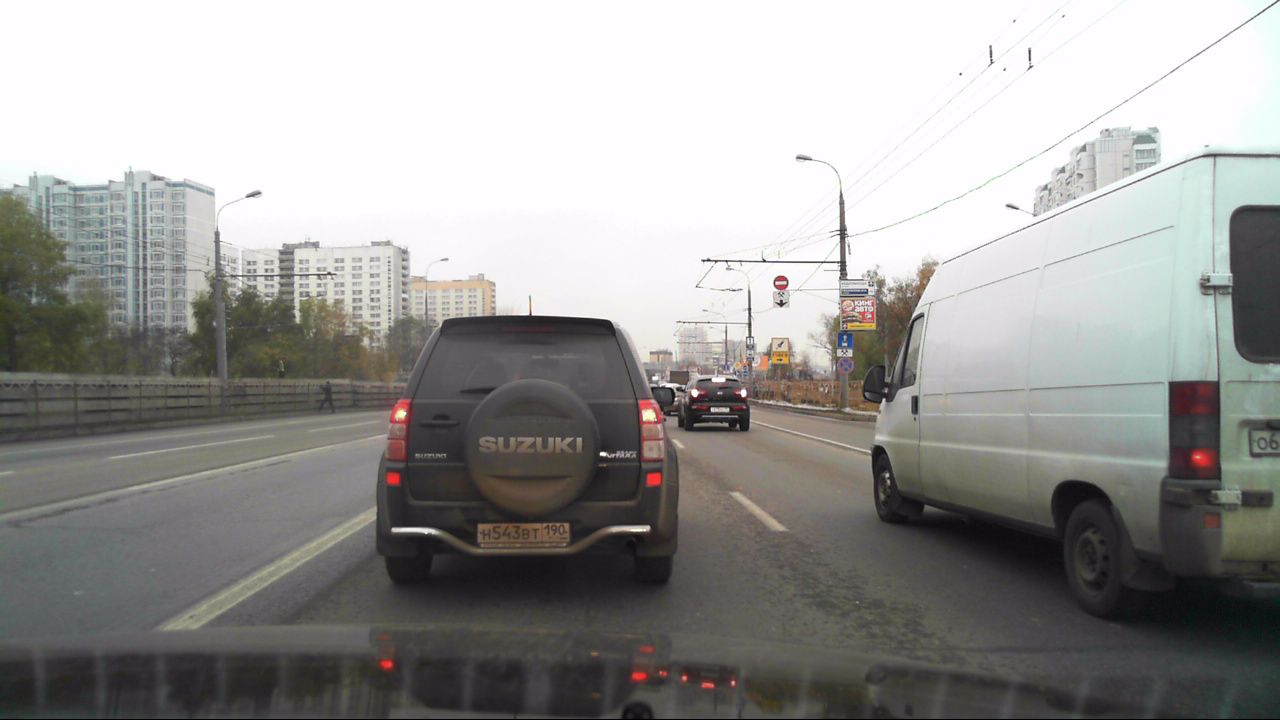No Parking: (837, 357, 854, 374)
